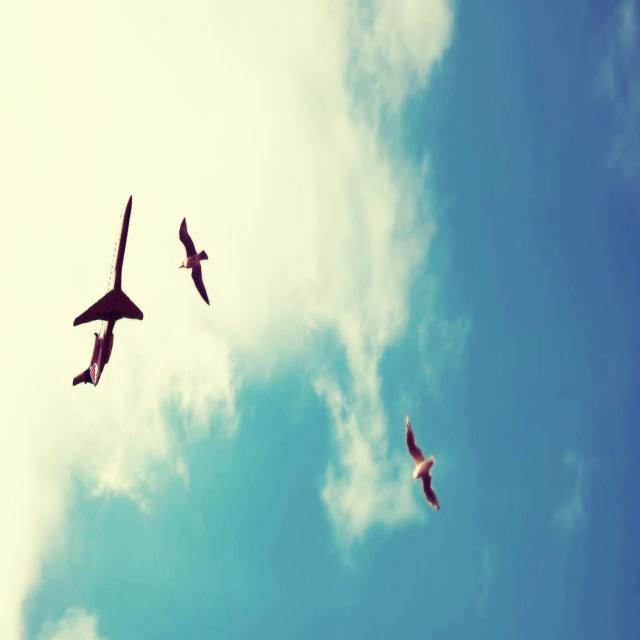airplane: (72, 193, 144, 388)
